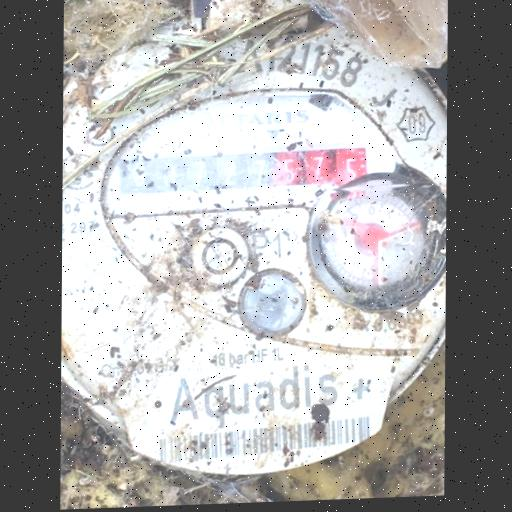0: (152, 157, 186, 193), (123, 156, 153, 194)
2: (214, 153, 245, 190)
5: (333, 146, 367, 186), (274, 150, 303, 186)
7: (301, 147, 334, 185), (245, 149, 277, 188), (186, 154, 216, 193)
border_water_meter_number: (117, 139, 372, 205)
